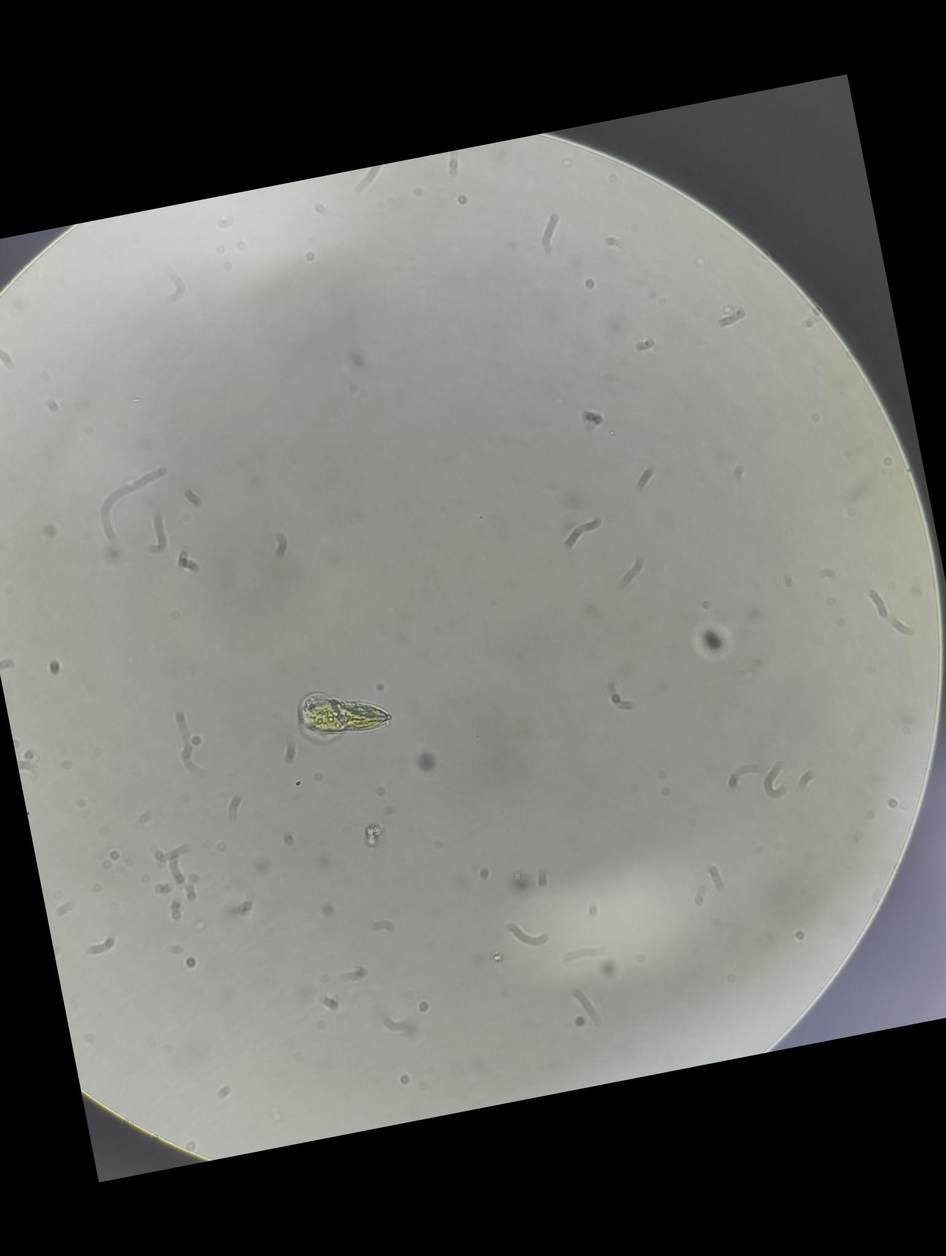Euglena: (280, 668, 404, 760)
